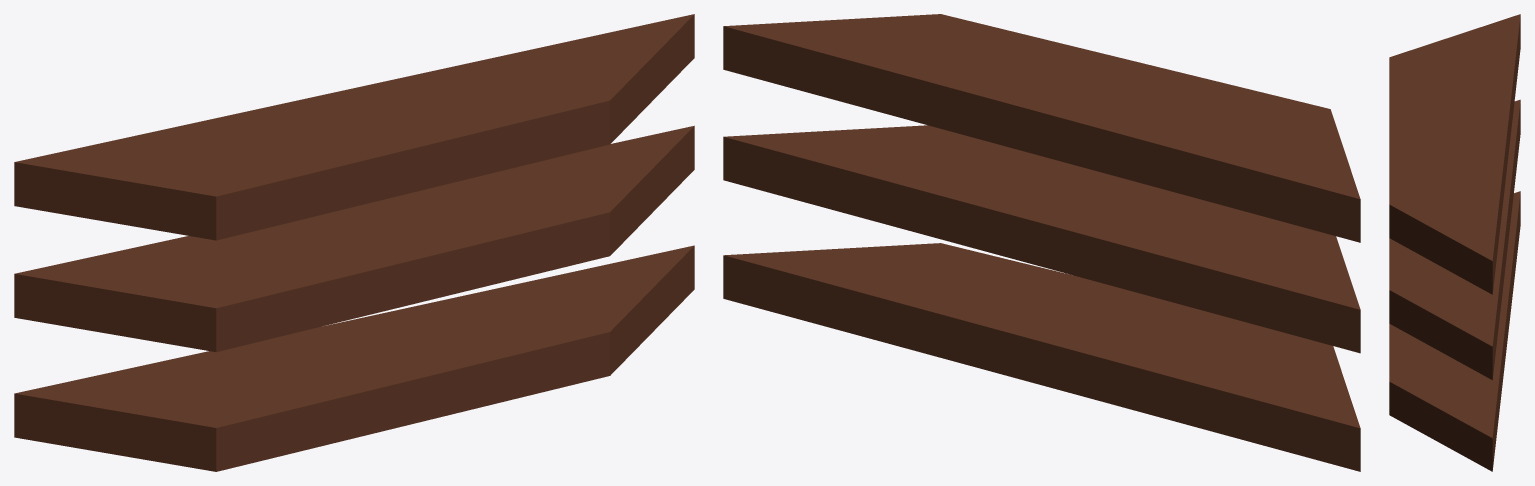
File: wall_shelf_2.fbx
The picture shows the model from 3 angles, left to right: view 1: azimuth 30°, elevation 25°; view 2: azimuth 150°, elevation 25°; view 3: azimuth 270°, elevation 25°; orthographic projection. The views are drawn at different scales.
Parts seen in each view (by area): view 1: polySurface17; view 2: polySurface17; view 3: polySurface17.
Boxes of the visible parts, x1=… form: polySurface17: x1=14, y1=14, x2=694, y2=471; polySurface17: x1=723, y1=14, x2=1360, y2=471; polySurface17: x1=1389, y1=14, x2=1520, y2=471.
Size of the model in its own units: 50.29 by 19.98 by 11.3.
